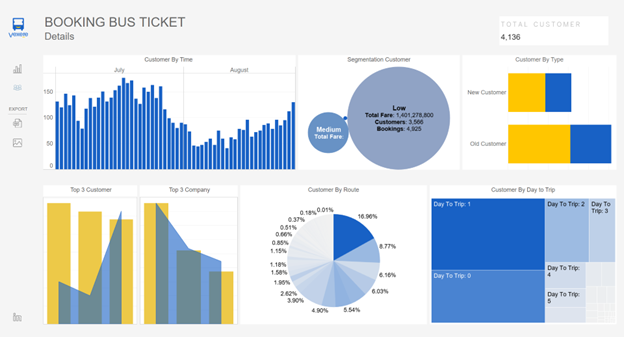

The dashboard page shown, as its layout file describes it:
{"tool":"tableau","page":{"name":"Details","canvas":[1000,1000],"units":"permille","ordinal":1},"visuals":[{"type":"blank","box":[6.2,4.6,54.2,58.3]},{"type":"blank","box":[60.5,4.6,19.9,950.4]},{"type":"worksheet","title":"Totel User","mark":"Automatic","box":[799.9,48.4,174.6,85.6]},{"type":"text","box":[80.4,54.2,907.1,57.1]},{"type":"image","param":"Image/images.png","box":[6.2,62.9,54.2,94.3]},{"type":"text","box":[80.4,111.3,907.1,52.1]},{"type":"blank","box":[6.2,157.2,54.2,1.2]},{"type":"blank","box":[6.2,158.4,54.2,39.7]},{"type":"text","box":[80.4,163.4,907.1,39.7]},{"type":"dashboard-object","box":[6.2,198.1,54.2,88.1]},{"type":"worksheet","title":"User By Time","mark":"Bar","rows":["Customer_BBCC361582994B0EAB5303D47AD0CD4C"],"cols":["Calculation_810366497912340483","Calculation_810366497912340483","Calculation_810366497912340483","Calculation_810366497912340483"],"box":[80.4,203.1,488.8,367.2]},{"type":"worksheet","title":"Segmen","mark":"Circle","box":[569.2,203.1,180.8,367.2]},{"type":"worksheet","title":"Merchant","mark":"Automatic","rows":["customer_type"],"cols":["Customer_BBCC361582994B0EAB5303D47AD0CD4C"],"box":[750,203.1,237.5,367.2]},{"type":"dashboard-object","box":[6.2,286.2,54.2,84.4]},{"type":"text","box":[6.2,370.6,54.2,62]},{"type":"blank","box":[6.2,432.6,54.2,1.2]},{"type":"dashboard-object","box":[6.2,433.9,54.2,74.4]},{"type":"blank","box":[5,502,990,244]},{"type":"dashboard-object","box":[6.2,508.3,54.2,74.4]},{"type":"blank","box":[80.4,570.3,907.1,49.6]},{"type":"blank","box":[6.2,582.7,54.2,148.9]},{"type":"worksheet","title":"Top3","mark":"Bar","rows":["total_fare","Booking_07C2DF3CC8A640059E99038218DAEA97"],"cols":["customer_id (Customer)"],"box":[80.4,620,185.2,335]},{"type":"worksheet","title":"Top3 Company","mark":"Bar","rows":["total_fare","Booking_07C2DF3CC8A640059E99038218DAEA97"],"cols":["comp_id (Company)"],"box":[265.6,620,192.6,335]},{"type":"worksheet","title":"Age","mark":"Pie","box":[458.2,620,264.6,335]},{"type":"worksheet","title":"Gender","mark":"Automatic","box":[722.9,620,264.6,335]},{"type":"blank","box":[6.2,731.6,54.2,134]},{"type":"blank","box":[5,746,990,244.1]},{"type":"blank","box":[6.2,865.6,54.2,39.7]},{"type":"image","param":"Image/linkedin (1).png","box":[6.2,905.7,54.2,49.6]}]}

Visuals, with their boxes on the dashboard's canvas, which has no fixed pixel size, in thousandths of its width and height (x1, y1, x2, y2). These are canvas units, not pixel positions in the 624x337 screenshot, which may show the page scaled, cropped or inside an application window:
blank: [6,5,60,63]
blank: [60,5,80,955]
"Totel User" worksheet: [800,48,974,134]
text: [80,54,988,111]
image: [6,63,60,157]
text: [80,111,988,163]
blank: [6,157,60,158]
blank: [6,158,60,198]
text: [80,163,988,203]
dashboard-object: [6,198,60,286]
"User By Time" worksheet (Bar marks): [80,203,569,570]
"Segmen" worksheet (Circle marks): [569,203,750,570]
"Merchant" worksheet: [750,203,988,570]
dashboard-object: [6,286,60,371]
text: [6,371,60,433]
blank: [6,433,60,434]
dashboard-object: [6,434,60,508]
blank: [5,502,995,746]
dashboard-object: [6,508,60,583]
blank: [80,570,988,620]
blank: [6,583,60,732]
"Top3" worksheet (Bar marks): [80,620,266,955]
"Top3 Company" worksheet (Bar marks): [266,620,458,955]
"Age" worksheet (Pie marks): [458,620,723,955]
"Gender" worksheet: [723,620,988,955]
blank: [6,732,60,866]
blank: [5,746,995,990]
blank: [6,866,60,905]
image: [6,906,60,955]
